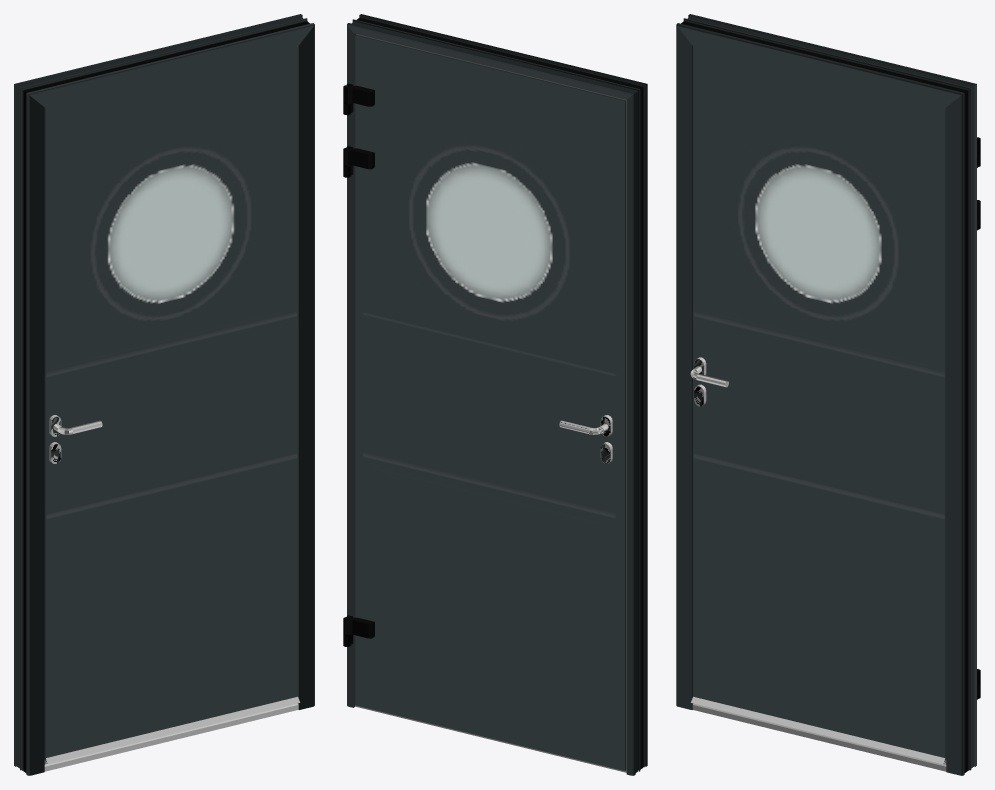
3 views of the same model, side by side, from view 1: azimuth 30°, elevation 25°; view 2: azimuth 150°, elevation 25°; view 3: azimuth 330°, elevation 25° (orthographic).
Parts seen in each view (by area): view 1: ouvrant, 85; view 2: ouvrant, 85; view 3: ouvrant, 85.
Part boxes in pixels (x1,y1,x2,y2): ouvrant: [44, 46, 300, 764]; 85: [14, 14, 314, 775]; ouvrant: [343, 34, 626, 770]; 85: [343, 14, 647, 775]; ouvrant: [691, 46, 980, 764]; 85: [676, 14, 980, 775].
Size of the model in its own units: 96 by 218 by 22.64.
1 material, 1 textured.
